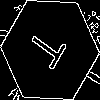T: (25, 25, 75, 76)
